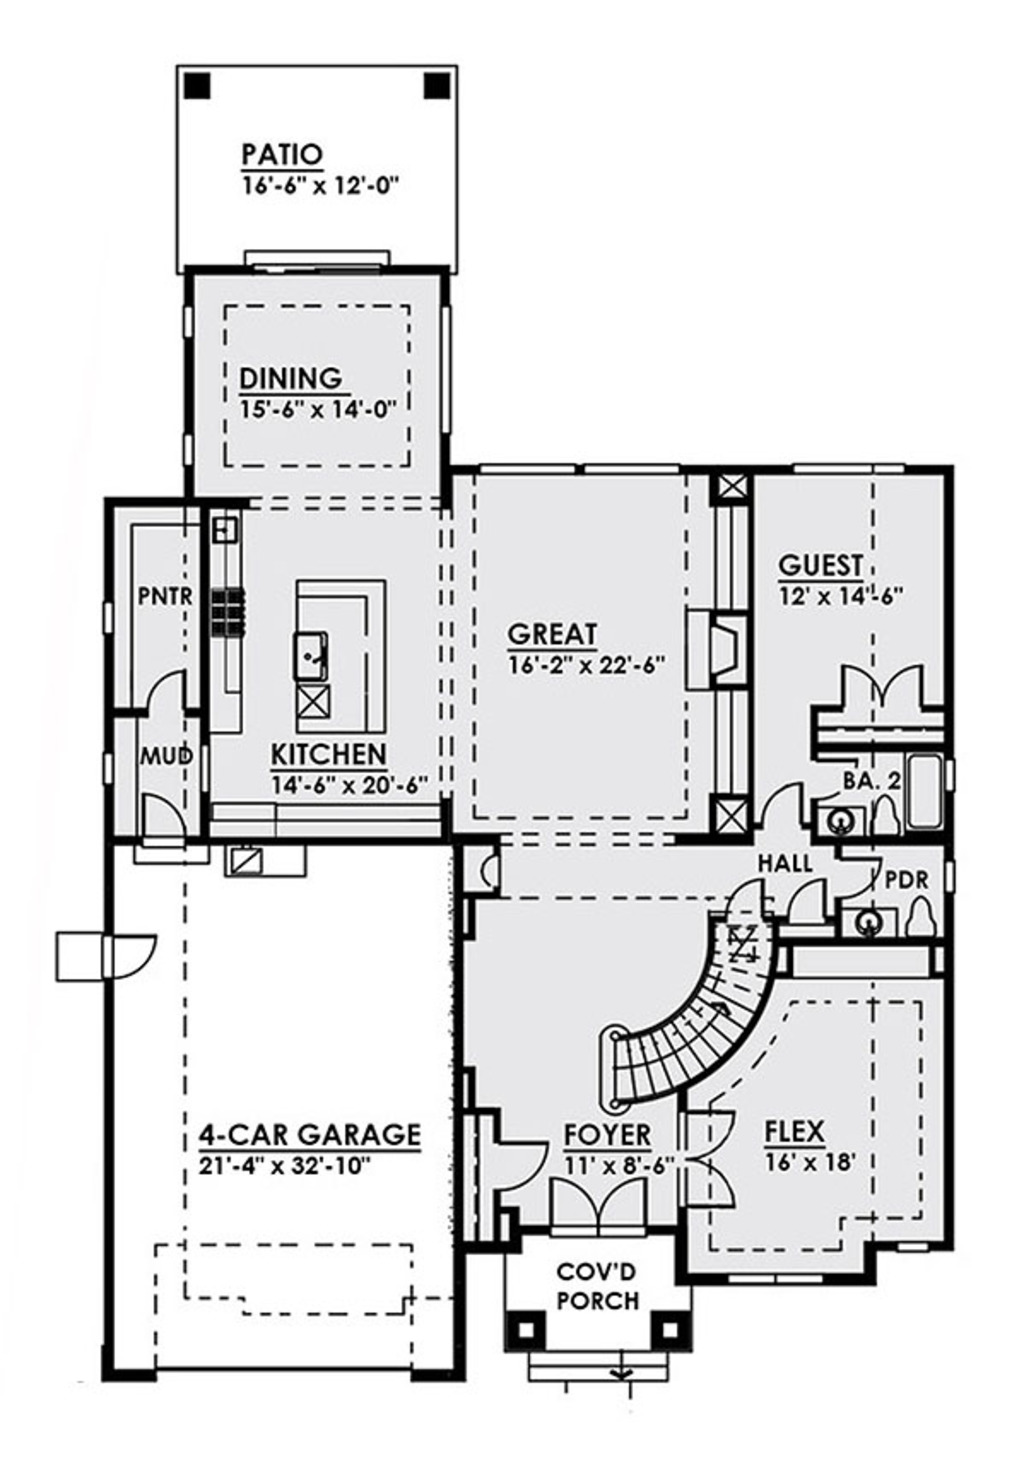door: (674, 1115, 741, 1214), (547, 1173, 652, 1234), (834, 663, 926, 710), (480, 1133, 551, 1194), (137, 784, 199, 850), (107, 928, 161, 985), (761, 782, 803, 834), (791, 874, 828, 934), (149, 671, 192, 717)
kitchen_bar: (288, 576, 383, 737)
large_sink: (864, 794, 907, 848), (898, 890, 931, 937)
small_sink: (837, 907, 903, 944), (820, 804, 866, 841)
stairs: (595, 911, 771, 1125)
tub: (907, 750, 948, 833)
windows: (471, 459, 680, 482), (775, 459, 915, 479)
